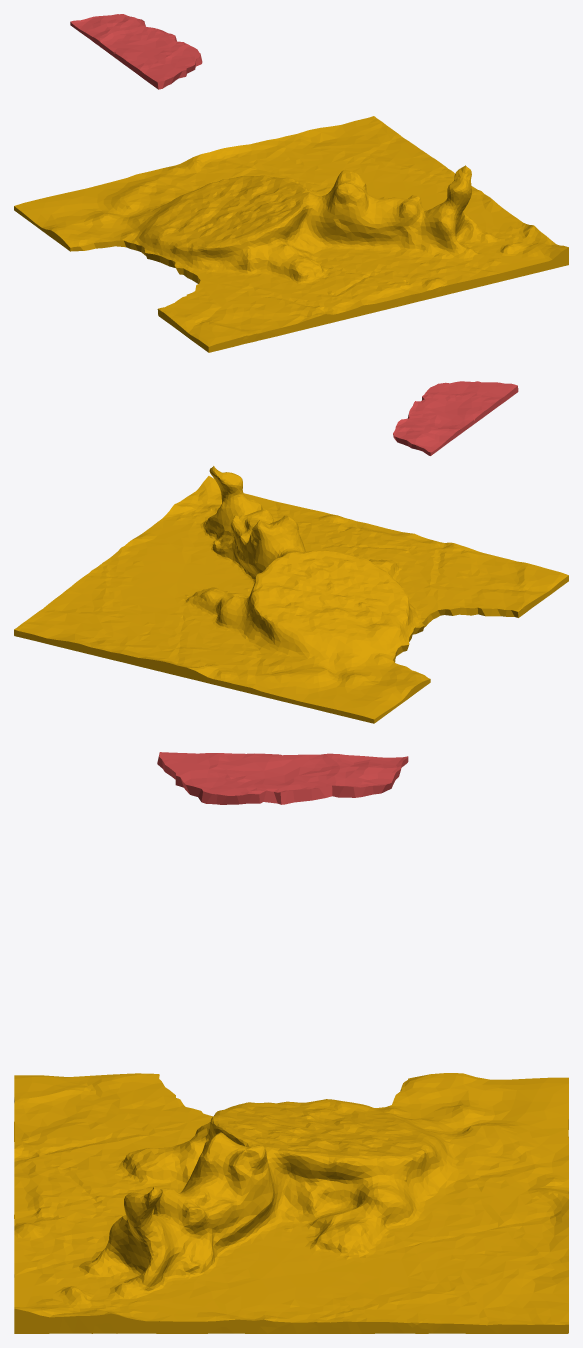
File: fractured_27_2pcs_transformed.glb
3 views of the same model, one above another, from view 1: azimuth 30°, elevation 25°; view 2: azimuth 150°, elevation 25°; view 3: azimuth 270°, elevation 25° (orthographic). The views are drawn at different scales.
Parts seen in each view (by area): view 1: piece_0.obj, piece_1.obj; view 2: piece_0.obj, piece_1.obj; view 3: piece_0.obj, piece_1.obj.
Boxes of the visible parts, x1,y1,x2,y2 form: piece_0.obj: [14, 116, 568, 352]; piece_1.obj: [70, 14, 202, 89]; piece_0.obj: [14, 466, 568, 723]; piece_1.obj: [393, 381, 518, 455]; piece_0.obj: [14, 1073, 568, 1333]; piece_1.obj: [157, 752, 408, 804].
Size of the model in its own units: 1 by 0.6208 by 0.9367.
